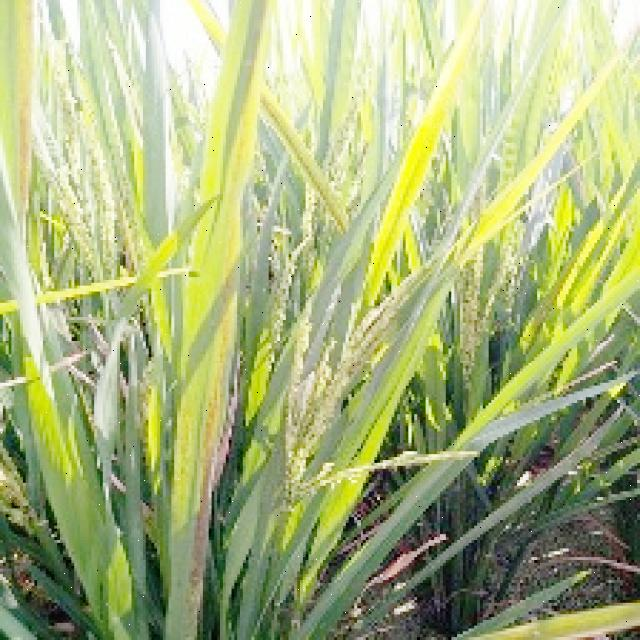-: (351, 0, 637, 334)
